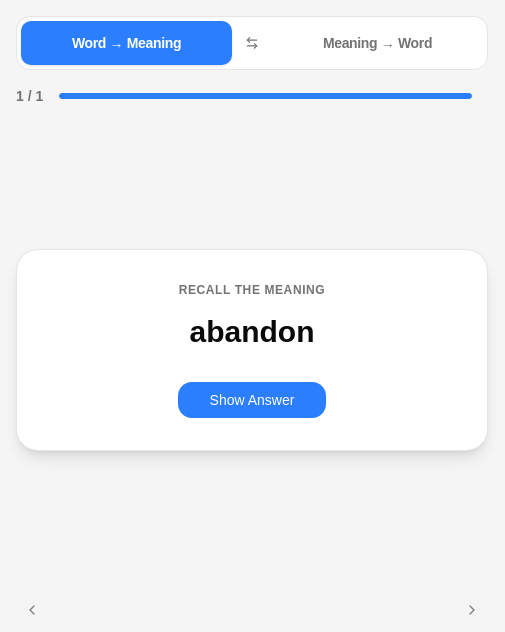
ReviewPage › normal mode (Word → Meaning) › reveals the meaning and difficulty buttons after clicking Show Answer
Click the button "Show Answer" at (252, 400), box [178,382,326,418]
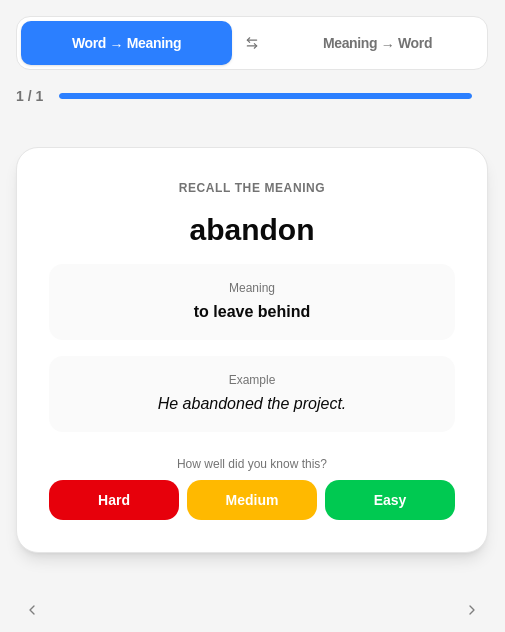
Result: the text "to leave behind" is shown at [194,303,310,320]
Result: the text "He abandoned the project." is shown at [158,395,346,412]
Result: the button "Hard" is shown at [49,480,179,520]
